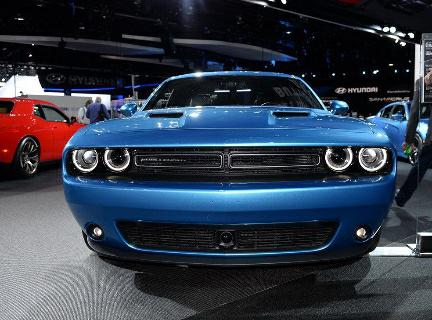道奇-挑战者: (56, 65, 402, 274)
